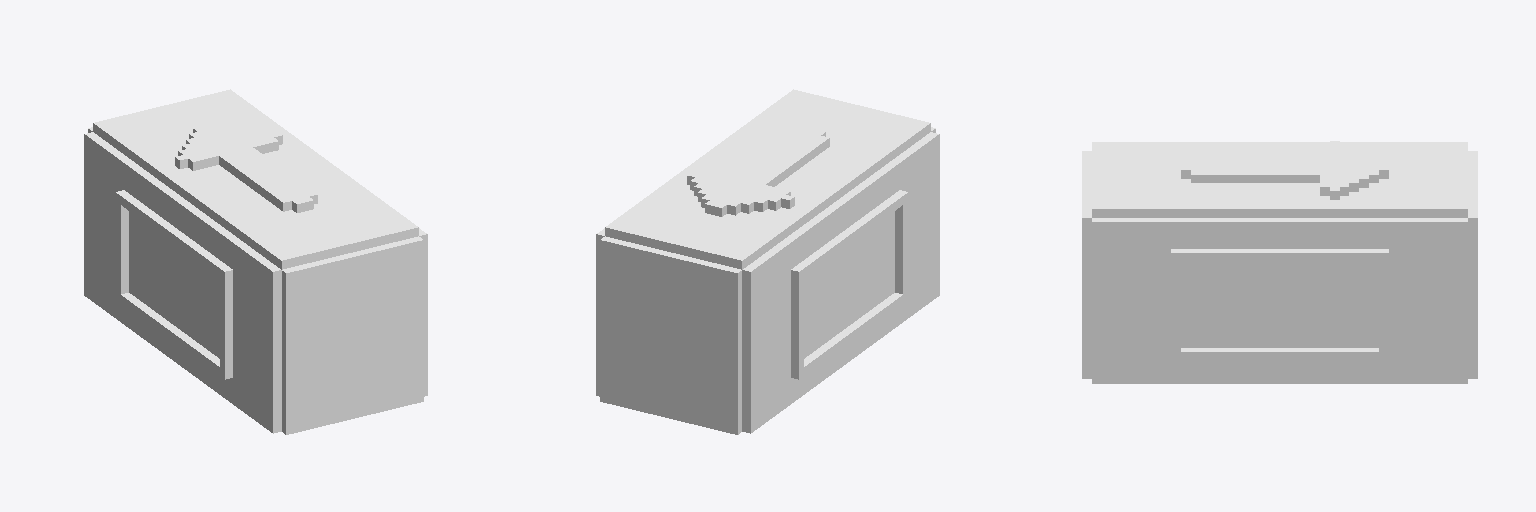
File: Compresseur-1-Compresseur.obj
3 renders of one model, left to right at view 1: azimuth 30°, elevation 25°; view 2: azimuth 150°, elevation 25°; view 3: azimuth 270°, elevation 25°, orthographic.
Visible parts, largest first — view 1: Compresseur; view 2: Compresseur; view 3: Compresseur.
Part boxes in pixels (x1,y1,x2,y2): Compresseur: (84, 89, 427, 434); Compresseur: (596, 89, 939, 434); Compresseur: (1082, 141, 1477, 383).
Size of the model in its own units: 2 by 2 by 4.